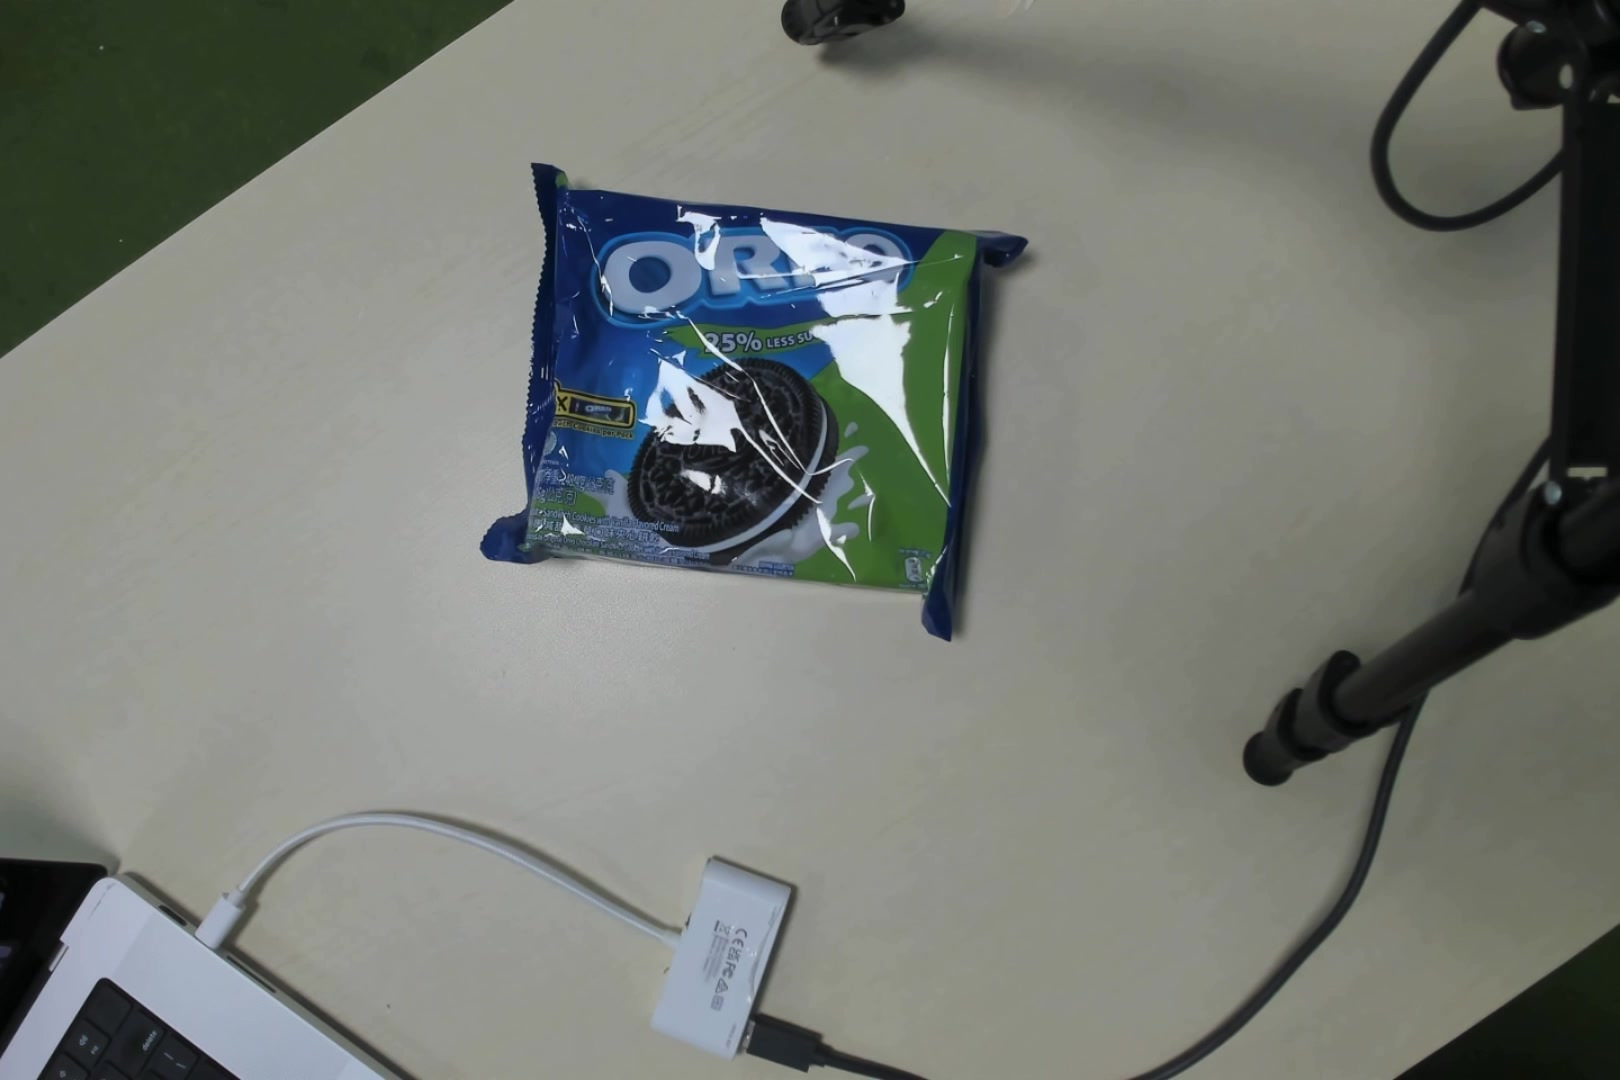SweetsChocolatesOthers_200-299g_Halal_NonHealthy: (538, 162, 993, 612)
